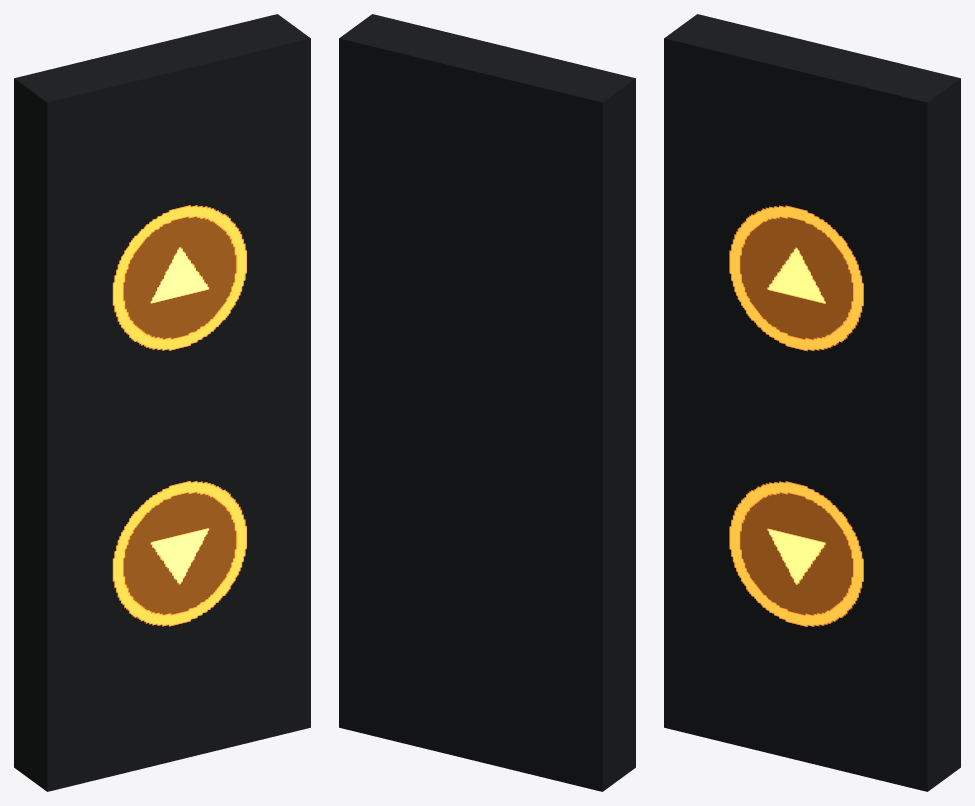
File: panel.glb
3 renders of one model, left to right at view 1: azimuth 30°, elevation 25°; view 2: azimuth 150°, elevation 25°; view 3: azimuth 330°, elevation 25°, orthographic.
Visible parts, largest first — view 1: panel; view 2: panel; view 3: panel.
Part boxes in pixels (left/top/right/bottom): panel: left=14, top=14, right=310, bottom=791; panel: left=339, top=14, right=635, bottom=791; panel: left=664, top=14, right=960, bottom=791.
Bounding box in the file's own units: 0.16 × 0.4 × 0.035.
1 material, 1 textured.
